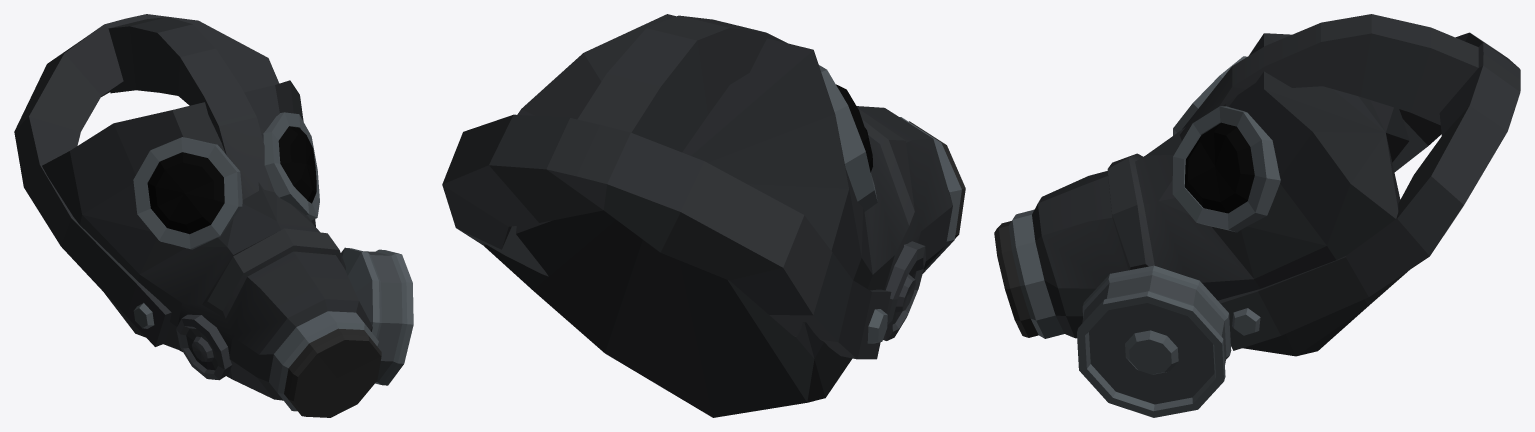
Rendered from SM_Chr_Attach_Head_GasMask_Medium_01.fbx.
3 views of the same model, side by side, from view 1: azimuth 30°, elevation 25°; view 2: azimuth 150°, elevation 25°; view 3: azimuth 270°, elevation 25° (orthographic). The views are drawn at different scales.
Visible parts, largest first — view 1: SM_Chr_Attach_Head_GasMask_Medium_01; view 2: SM_Chr_Attach_Head_GasMask_Medium_01; view 3: SM_Chr_Attach_Head_GasMask_Medium_01.
Part boxes in pixels (left/top/right/bottom): SM_Chr_Attach_Head_GasMask_Medium_01: left=14, top=14, right=413, bottom=417; SM_Chr_Attach_Head_GasMask_Medium_01: left=442, top=14, right=965, bottom=417; SM_Chr_Attach_Head_GasMask_Medium_01: left=994, top=14, right=1520, bottom=417.
Size of the model in its own units: 22.91 by 26.2 by 36.7.
